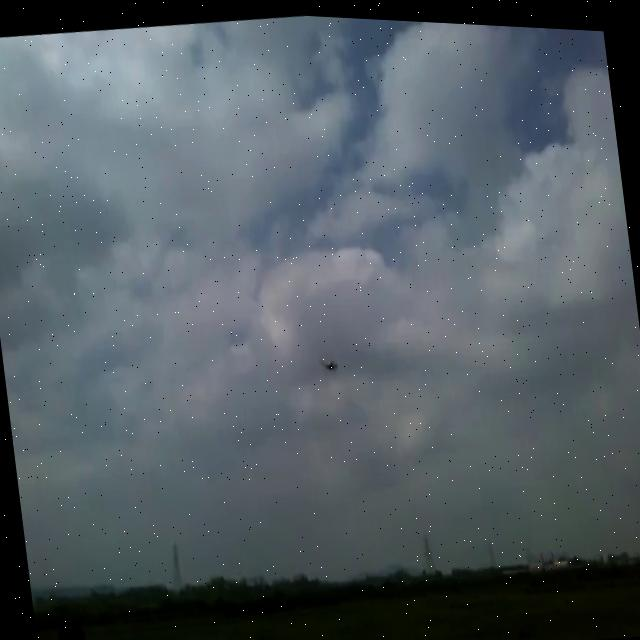drone: (318, 347, 339, 370)
